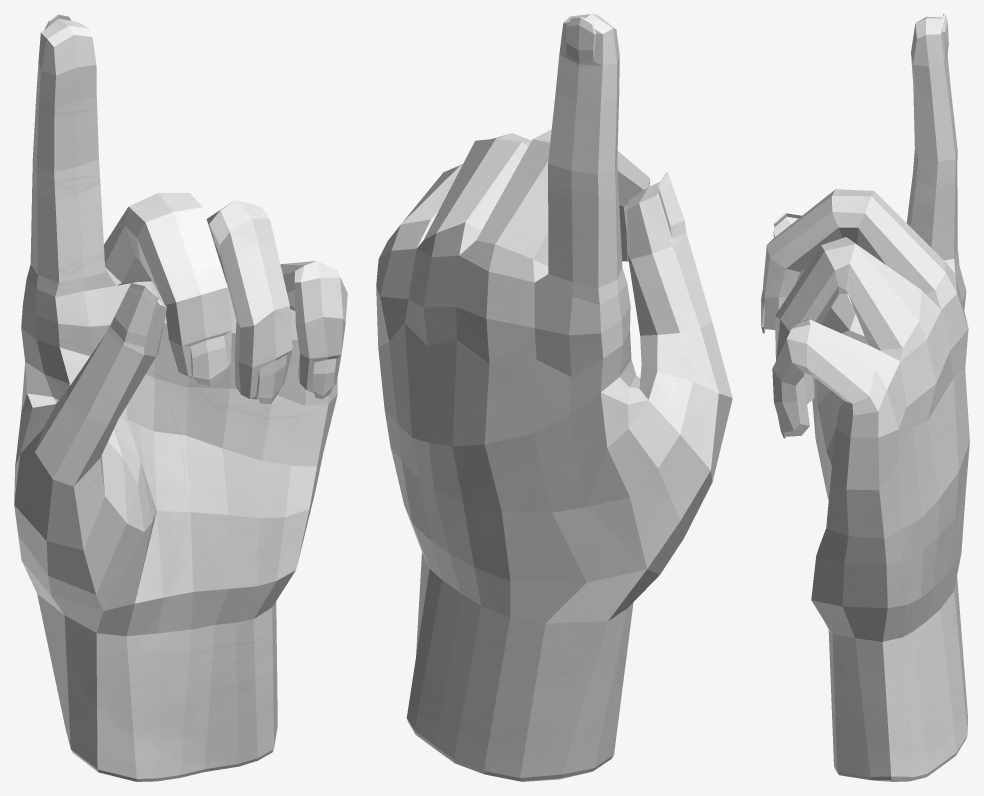
File: l_hard_point2.glb
The picture shows the model from 3 angles, left to right: view 1: azimuth 30°, elevation 25°; view 2: azimuth 150°, elevation 25°; view 3: azimuth 270°, elevation 25°; orthographic projection. The views are drawn at different scales.
Parts seen in each view (by area): view 1: L_Hard_Point2; view 2: L_Hard_Point2; view 3: L_Hard_Point2.
Part boxes in pixels (<box>): L_Hard_Point2: <box>14,14,347,781</box>; L_Hard_Point2: <box>376,14,732,781</box>; L_Hard_Point2: <box>761,14,969,781</box>.
Size of the model in its own units: 0.108 by 0.2444 by 0.0662.
Materials: 1 (1 with a texture image).
